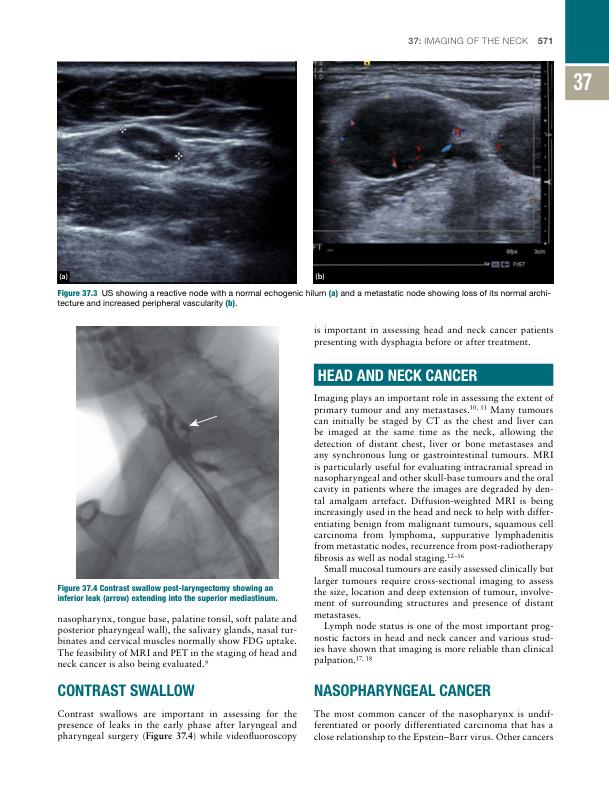caption: (57, 288, 552, 309), (58, 272, 69, 281), (315, 272, 325, 281)
chapter-heading: (56, 583, 278, 605)
header: (407, 36, 530, 45)
image: (312, 60, 555, 285), (57, 60, 297, 284), (75, 324, 280, 580)
section-heading: (317, 368, 478, 382)
sub-section-heading: (314, 682, 491, 697), (57, 682, 196, 697)
text: (313, 393, 555, 667), (56, 614, 298, 671), (56, 708, 298, 743), (313, 708, 554, 743), (313, 324, 554, 349)
